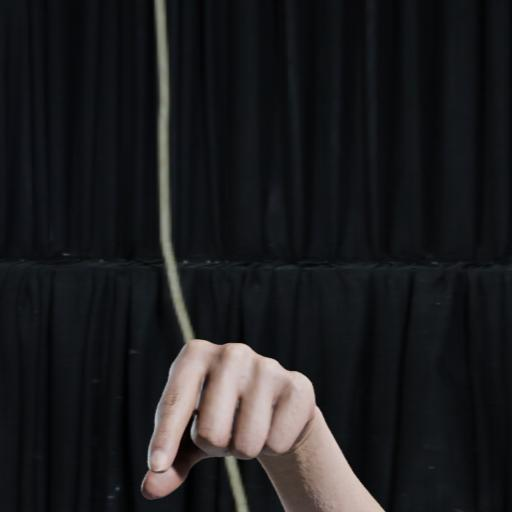Q: (136, 327, 385, 512)
